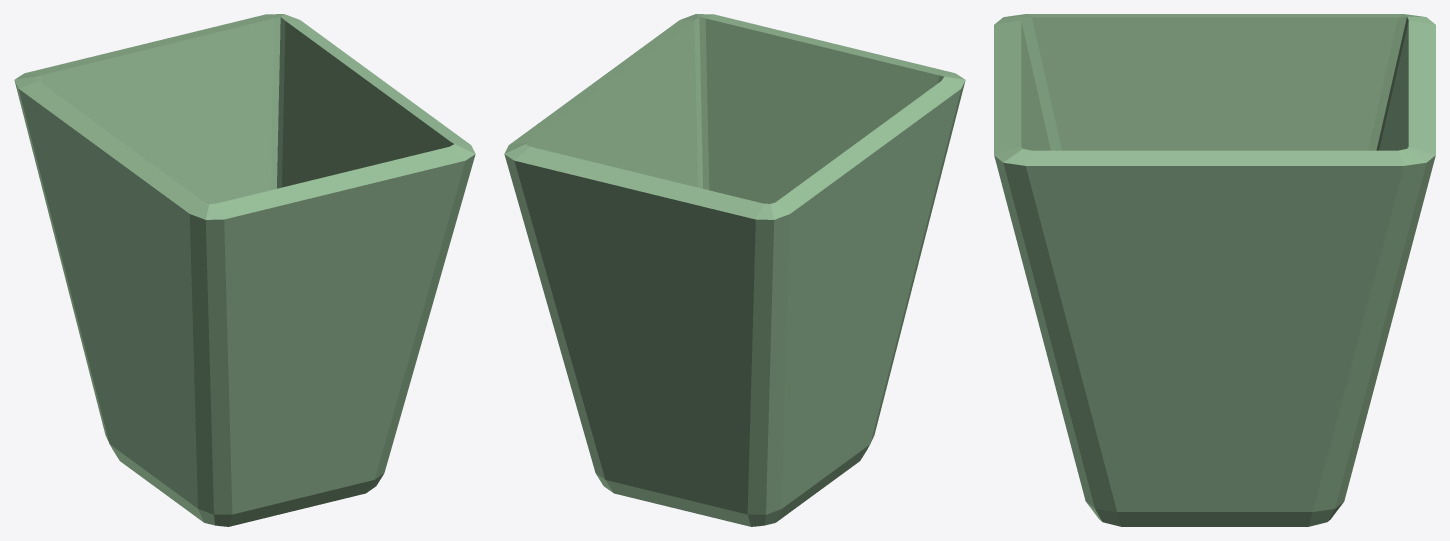
Rendered from Trash.fbx.
The picture shows the model from 3 angles, left to right: view 1: azimuth 30°, elevation 25°; view 2: azimuth 150°, elevation 25°; view 3: azimuth 270°, elevation 25°; orthographic projection. The views are drawn at different scales.
Visible parts, largest first — view 1: Cube; view 2: Cube; view 3: Cube.
Part boxes in pixels (x1,y1,x2,y2): Cube: [14, 14, 475, 526]; Cube: [504, 14, 965, 526]; Cube: [994, 14, 1435, 526].
Bounding box in the file's own units: 163 × 204 × 200.
